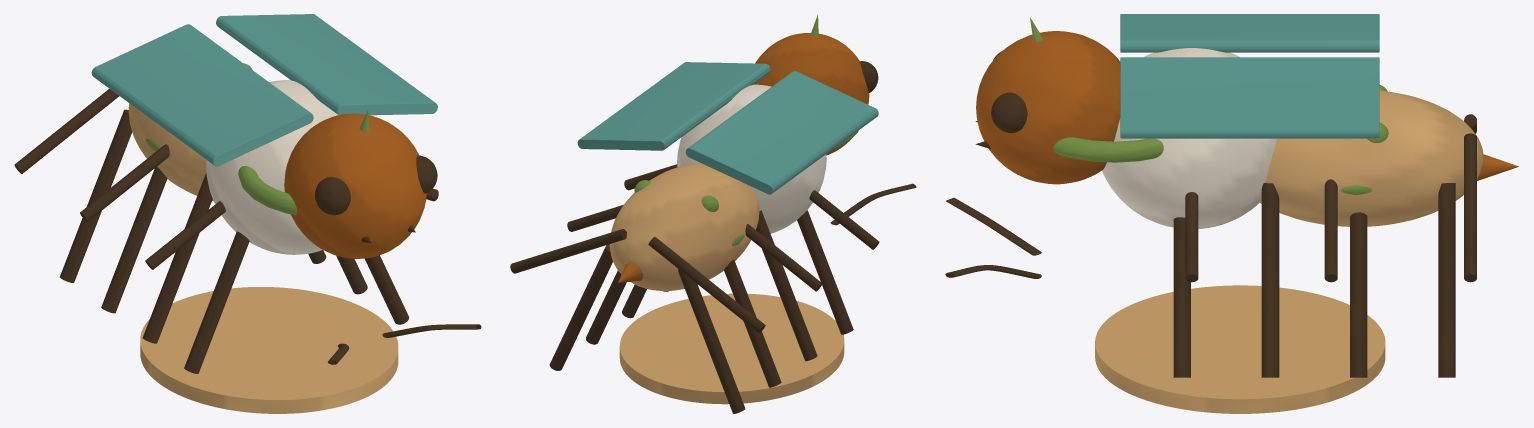
Rendered from 0011_昆虫图鉴_蚁狮.glb.
3 views of the same model, side by side, from view 1: azimuth 30°, elevation 25°; view 2: azimuth 150°, elevation 25°; view 3: azimuth 270°, elevation 25° (orthographic). The views are drawn at different scales.
Visible parts, largest first — view 1: card_0011; view 2: card_0011; view 3: card_0011.
Part boxes in pixels (<box>): card_0011: <box>14,14,481,413</box>; card_0011: <box>510,15,916,413</box>; card_0011: <box>945,14,1518,413</box>.
Bounding box in the file's own units: 0.9511 × 1 × 1.53.
